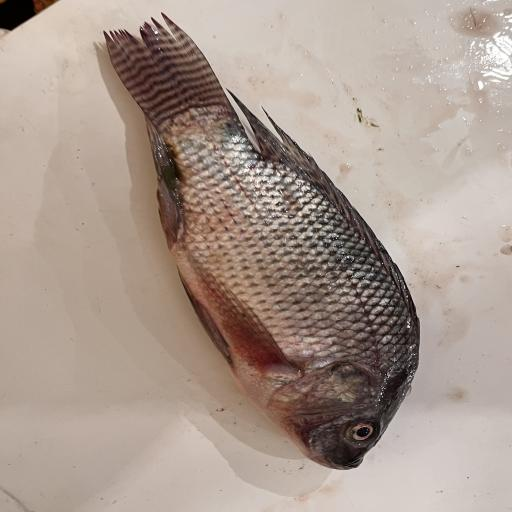Tilapia: (102, 11, 421, 471)
